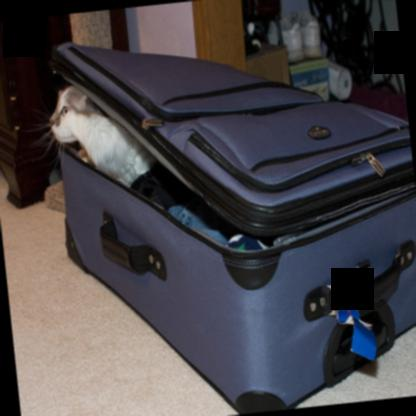suitcase: (55, 43, 416, 413)
